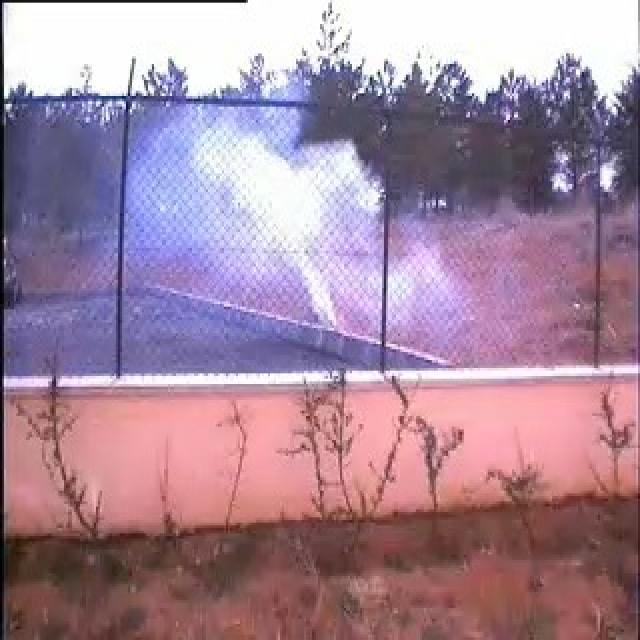smoke: (127, 90, 430, 349)
